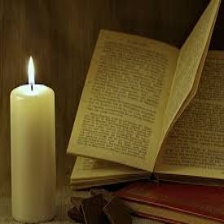fire: (24, 53, 40, 87)
